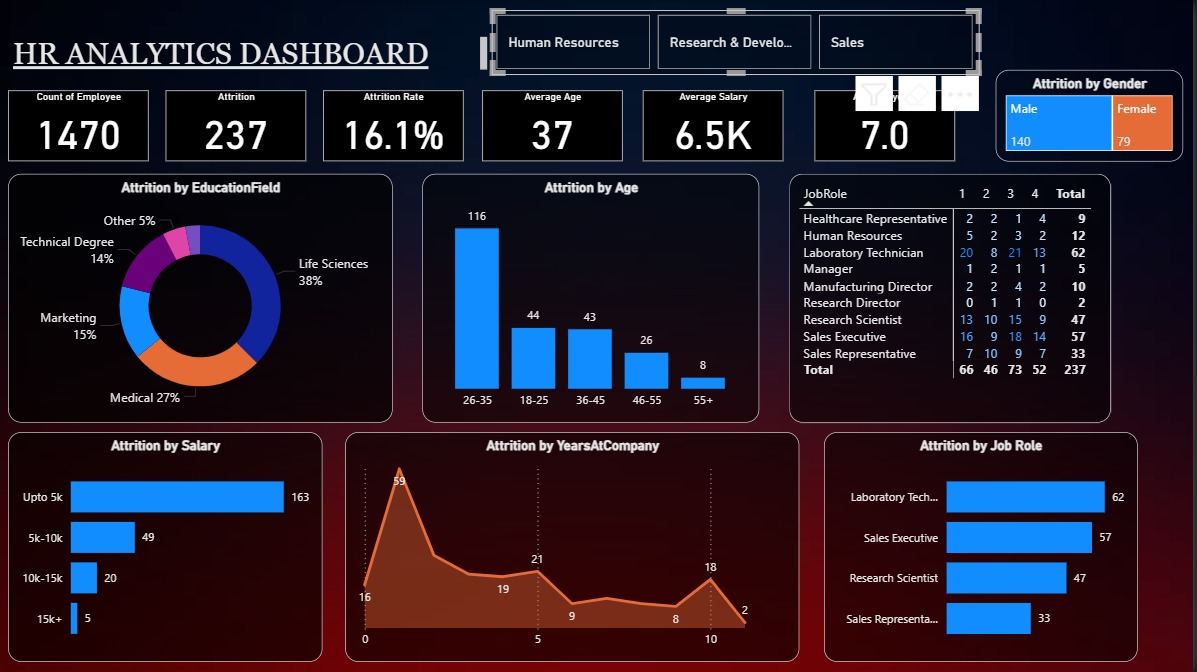

What the dashboard file says about the page in this screenshot:
{"tool":"powerbi","page":{"name":"Page 1","canvas":[1280,720],"ordinal":0},"visuals":[{"type":"card","title":"Count of Employee","fields":{"Values":["CountNonNull(HR_Analytics (1).EmpID)"]},"box":[15.7,96.9,149.7,75.5],"z":0},{"type":"card","title":"Attrition","fields":{"Values":["Sum(HR_Analytics (1).AttritionCount)"]},"box":[183.9,96.9,149.7,75.5],"z":1000},{"type":"card","title":"Attrition Rate","fields":{"Values":["HR_Analytics (1).AttritionRates"]},"box":[350.6,96.9,149.7,75.5],"z":2000},{"type":"card","title":"Average Salary","fields":{"Values":["Avg(HR_Analytics (1).MonthlyIncome)"]},"box":[692.7,96.9,149.7,75.5],"z":3000},{"type":"card","title":"Average Age","fields":{"Values":["Avg(HR_Analytics (1).Age)"]},"box":[520.3,96.9,149.7,75.5],"z":4000},{"type":"card","title":"Average years","fields":{"Values":["Avg(HR_Analytics (1).YearsAtCompany)"]},"box":[875.2,96.9,149.7,75.5],"z":5000},{"type":"donutChart","title":"Attrition by EducationField","fields":{"Category":["HR_Analytics (1).EducationField"],"Y":["Sum(HR_Analytics (1).AttritionCount)"]},"box":[15.1,186.5,410,265.5],"z":6000},{"type":"columnChart","title":"Attrition by Age","fields":{"Category":["HR_Analytics (1).AgeGroup"],"Y":["Sum(HR_Analytics (1).AttritionCount)"]},"box":[457.1,186.5,359.6,265.5],"z":7000},{"type":"pivotTable","fields":{"Rows":["HR_Analytics (1).JobRole"],"Columns":["HR_Analytics (1).JobSatisfaction"],"Values":["Sum(HR_Analytics (1).AttritionCount)"]},"box":[848.6,186.5,342.8,265.5],"z":8000},{"type":"barChart","title":"Attrition by Salary","fields":{"Category":["HR_Analytics (1).SalarySlab"],"Y":["Sum(HR_Analytics (1).AttritionCount)"]},"box":[15.7,461.8,335,245.2],"z":9000},{"type":"barChart","title":"Attrition by Job Role","fields":{"Category":["HR_Analytics (1).JobRole"],"Y":["Sum(HR_Analytics (1).AttritionCount)"]},"box":[885.6,462.1,334.4,245.3],"z":10000},{"type":"areaChart","title":"Attrition by YearsAtCompany","fields":{"Category":["HR_Analytics (1).YearsAtCompany"],"Y":["Sum(HR_Analytics (1).AttritionCount)"]},"box":[374.9,461.8,484.6,245.2],"z":11000},{"type":"treemap","title":"Attrition by Gender","fields":{"Group":["HR_Analytics (1).Gender"],"Values":["Sum(HR_Analytics (1).AttritionCount)"]},"box":[1068.7,75.6,200,97.5],"z":12000},{"type":"advancedSlicerVisual","fields":{"Values":["HR_Analytics (1).Department"]},"box":[531,11.8,520.9,68.9],"z":13000},{"type":"textbox","box":[15.1,35.3,515.9,45.4],"z":14000}]}

Visuals, with their boxes in screenshot pixels (x1, y1, x2, y2), scaled from the page's 1280x720 canvas onto the 1197x672 screenshot:
"Count of Employee" card: <region>15, 90, 155, 161</region>
"Attrition" card: <region>172, 90, 312, 161</region>
"Attrition Rate" card: <region>328, 90, 468, 161</region>
"Average Salary" card: <region>648, 90, 788, 161</region>
"Average Age" card: <region>487, 90, 627, 161</region>
"Average years" card: <region>818, 90, 958, 161</region>
"Attrition by EducationField" donutChart: <region>14, 174, 398, 422</region>
"Attrition by Age" columnChart: <region>427, 174, 764, 422</region>
pivotTable - HR_Analytics (1).JobRole x HR_Analytics (1).JobSatisfaction: <region>794, 174, 1114, 422</region>
"Attrition by Salary" barChart: <region>15, 431, 328, 660</region>
"Attrition by Job Role" barChart: <region>828, 431, 1141, 660</region>
"Attrition by YearsAtCompany" areaChart: <region>351, 431, 804, 660</region>
"Attrition by Gender" treemap: <region>999, 71, 1186, 162</region>
advancedSlicerVisual - HR_Analytics (1).Department: <region>497, 11, 984, 75</region>
textbox: <region>14, 33, 497, 75</region>
